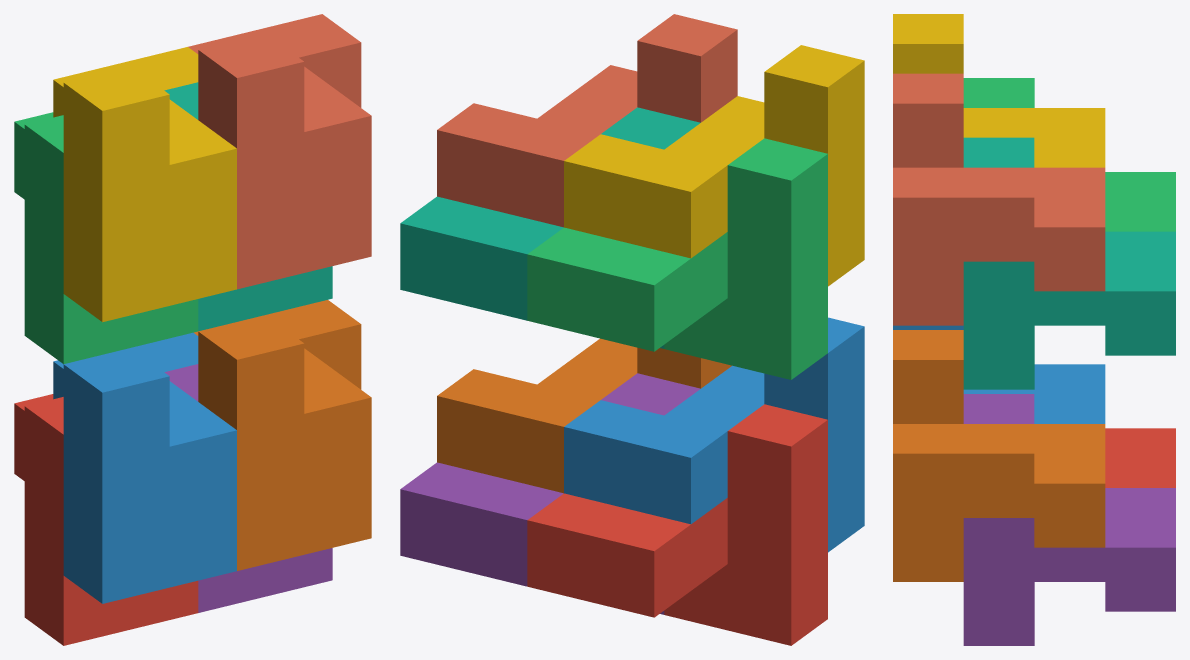
The model's file is tiling.obj.
3 renders of one model, left to right at view 1: azimuth 30°, elevation 25°; view 2: azimuth 150°, elevation 25°; view 3: azimuth 270°, elevation 25°, orthographic. The views are drawn at different scales.
Visible parts, largest first — view 1: copy_1_domain_4, copy_1_domain_2, copy_1_domain_8, copy_1_domain_6, copy_1_domain_3, copy_1_domain_1, copy_1_domain_5, copy_1_domain_7; view 2: copy_1_domain_3, copy_1_domain_1, copy_1_domain_4, copy_1_domain_2, copy_1_domain_8, copy_1_domain_6, copy_1_domain_5, copy_1_domain_7; view 3: copy_1_domain_8, copy_1_domain_6, copy_1_domain_7, copy_1_domain_5, copy_1_domain_4, copy_1_domain_3, copy_1_domain_2, copy_1_domain_1.
Boxes of the visible parts, x1,y1,x2,y2 form: copy_1_domain_4: (53, 47, 236, 322); copy_1_domain_2: (53, 332, 236, 603); copy_1_domain_8: (188, 14, 371, 289); copy_1_domain_6: (194, 300, 371, 570); copy_1_domain_3: (14, 112, 198, 364); copy_1_domain_1: (14, 394, 198, 645); copy_1_domain_5: (164, 364, 332, 612); copy_1_domain_7: (164, 82, 332, 331); copy_1_domain_3: (527, 138, 827, 379); copy_1_domain_1: (527, 404, 827, 645); copy_1_domain_4: (564, 45, 864, 286); copy_1_domain_2: (564, 317, 864, 552); copy_1_domain_8: (437, 14, 737, 227); copy_1_domain_6: (437, 338, 731, 493); copy_1_domain_5: (400, 373, 700, 614); copy_1_domain_7: (400, 107, 700, 348); copy_1_domain_8: (893, 73, 1105, 325); copy_1_domain_6: (893, 330, 1105, 581); copy_1_domain_7: (963, 137, 1175, 389); copy_1_domain_5: (963, 394, 1175, 645); copy_1_domain_4: (893, 14, 1105, 167); copy_1_domain_3: (963, 78, 1175, 231); copy_1_domain_2: (893, 325, 1105, 423); copy_1_domain_1: (1105, 428, 1175, 487).
Size of the model in its own units: 5 by 8 by 4.
